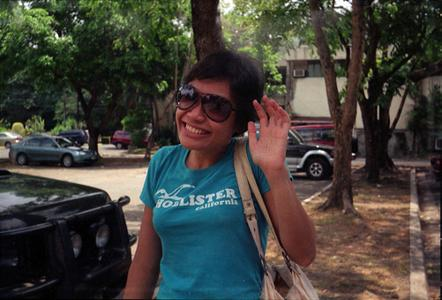person: (122, 52, 319, 300)
